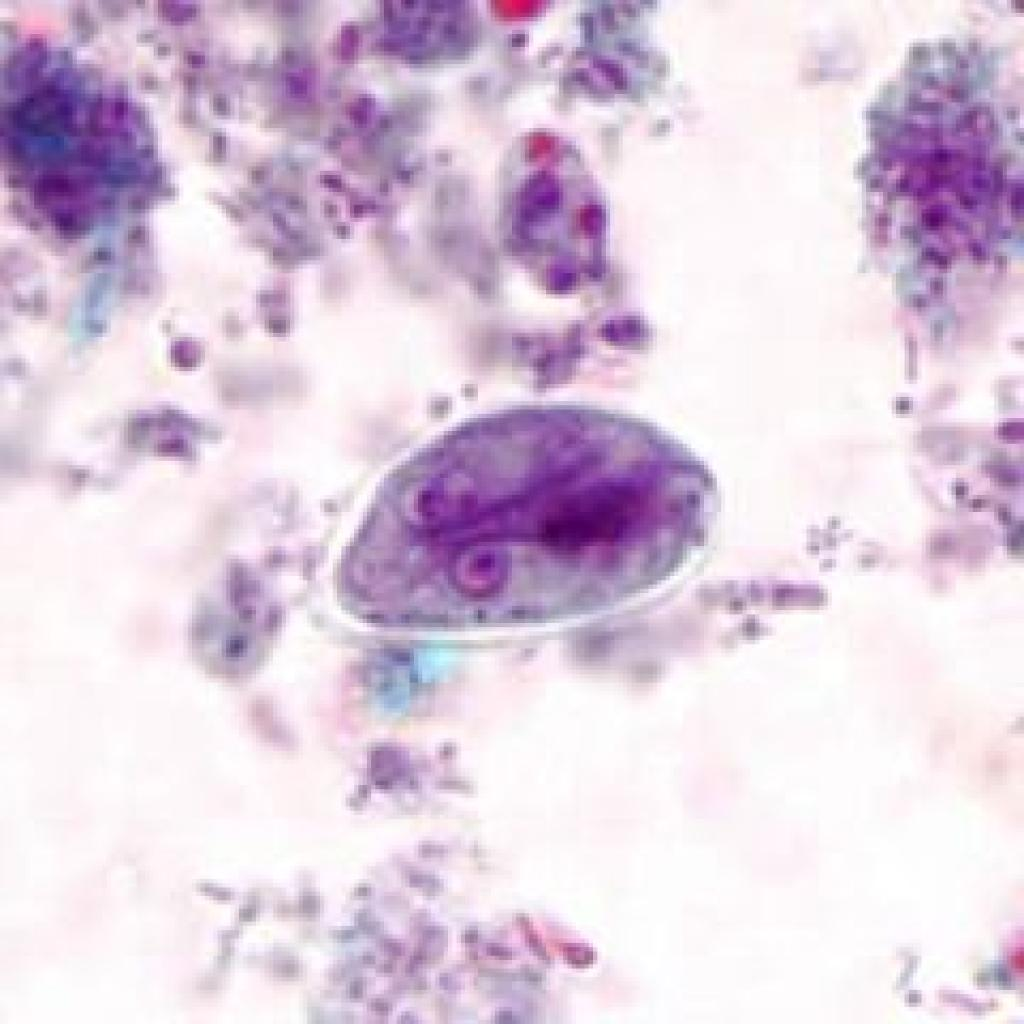Giardia: (324, 397, 730, 640)
